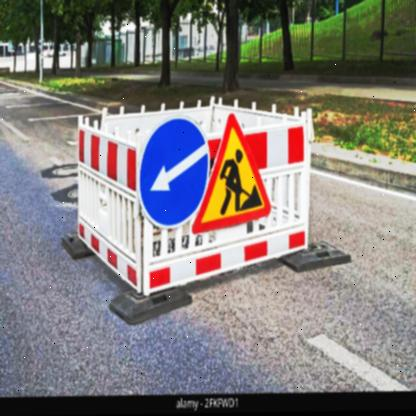Keep left: (138, 114, 210, 230)
